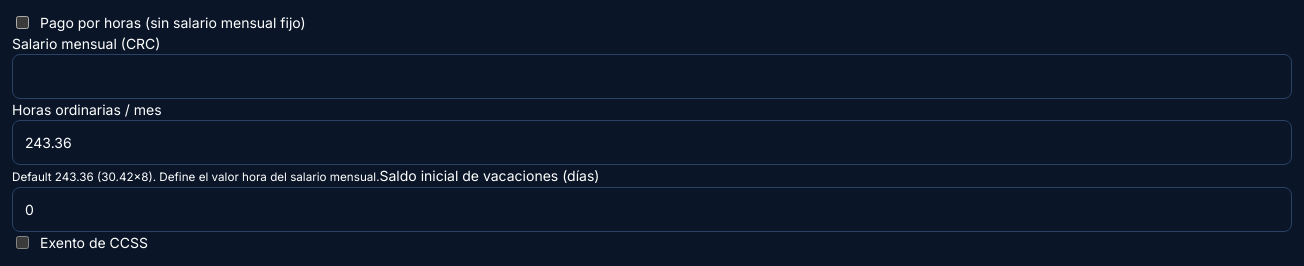
Test: EmployeePayFields › al marcar pago por horas oculta salario, horas/mes y vacaciones
The image size is (1304, 266).
Click the checkbox labelled "Pago por horas (sin salario mensual fijo)".
click(22, 22)  # box [16,16,29,29]
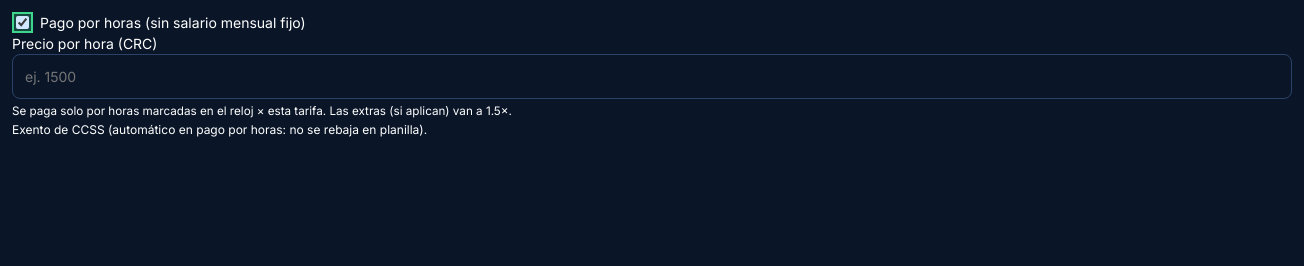
Expected: the label "Horas ordinarias / mes" is gone
Expected: the label "Saldo inicial de vacaciones" is gone
Expected: the text "Exento de CCSS (automático" is shown, [12,122,427,136]
